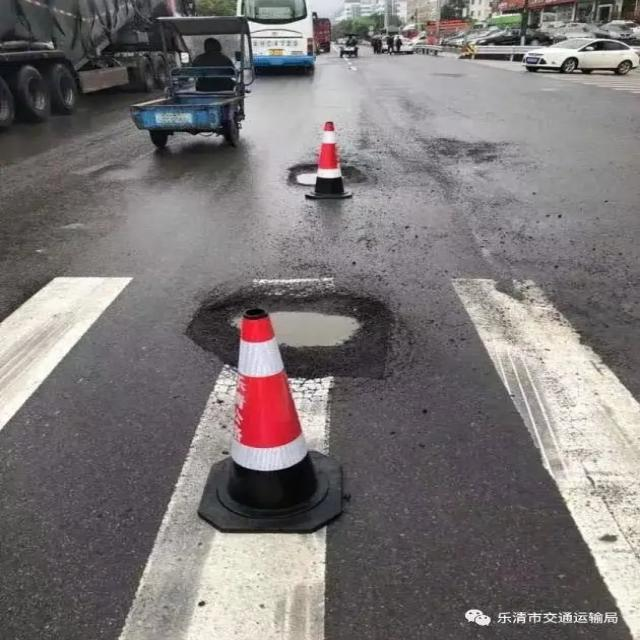Pothole: (221, 291, 392, 361), (280, 165, 360, 186)
